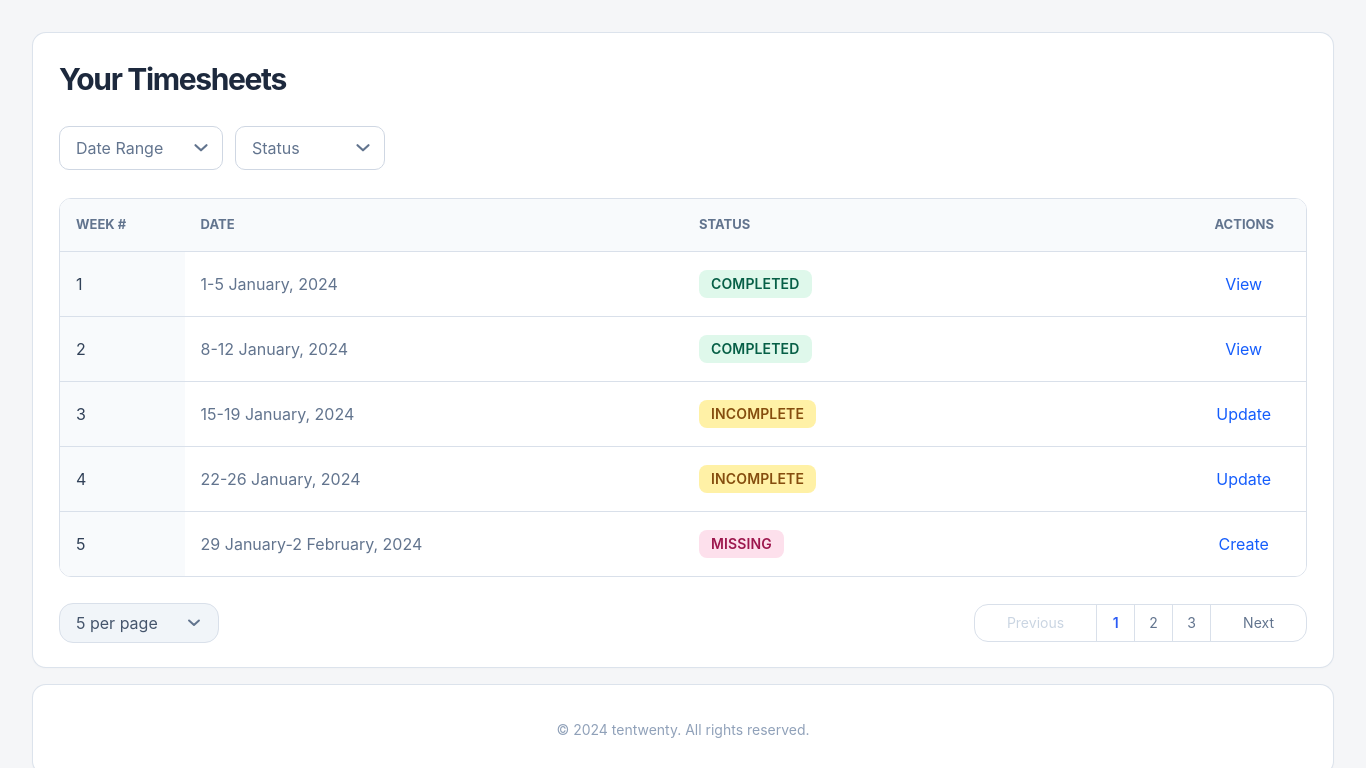
Test: TimesheetsPage › shows only two page buttons after switching to 10 rows per page
Click the button "3" at (1192, 622), box [1173, 604, 1211, 640]
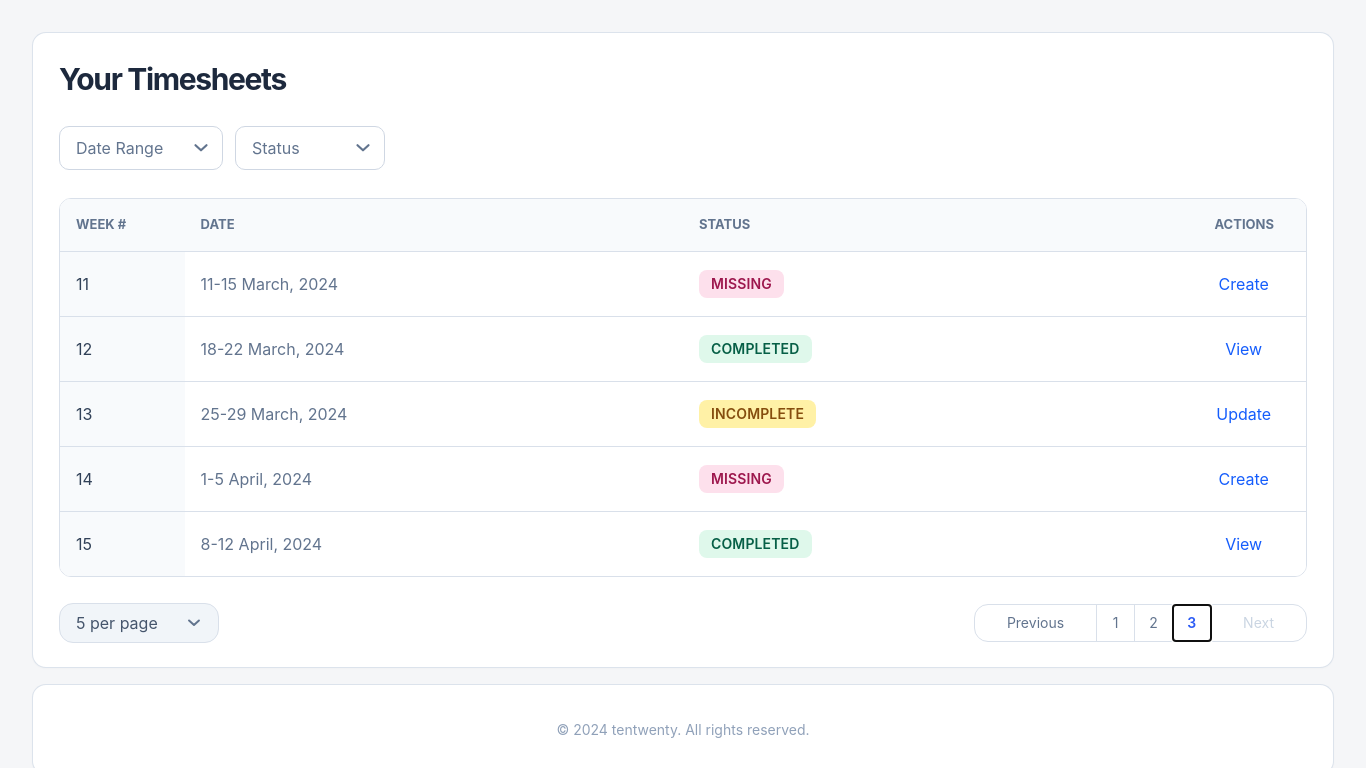
Expected: the text "25-29 March, 2024" is shown, [185, 381, 683, 446]
Select "10 per page" in the dropdown named "Rows per page" at (139, 622), box [59, 602, 219, 642]
(page scrolled)
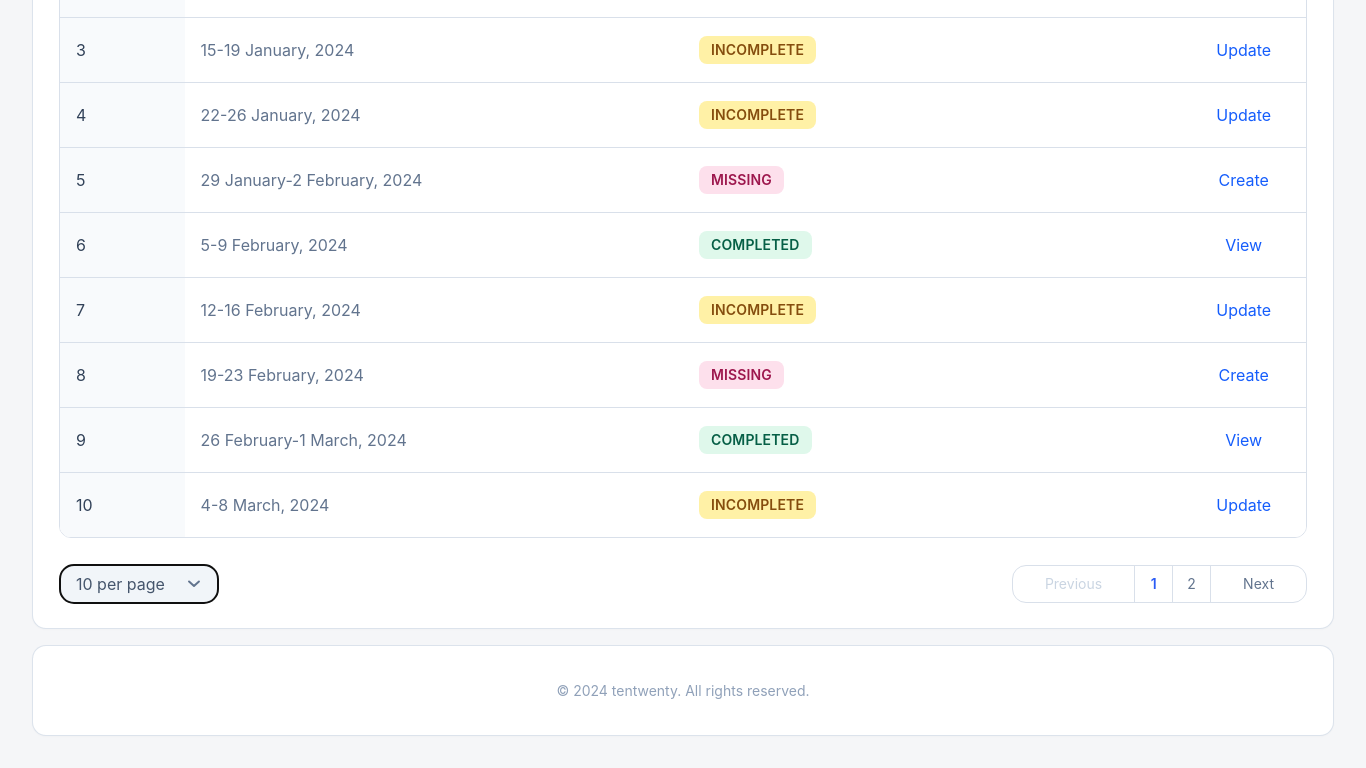
Expected: the button "2" is shown, [1173, 566, 1211, 602]
Expected: the text "4-8 March, 2024" is shown, [185, 472, 683, 536]
